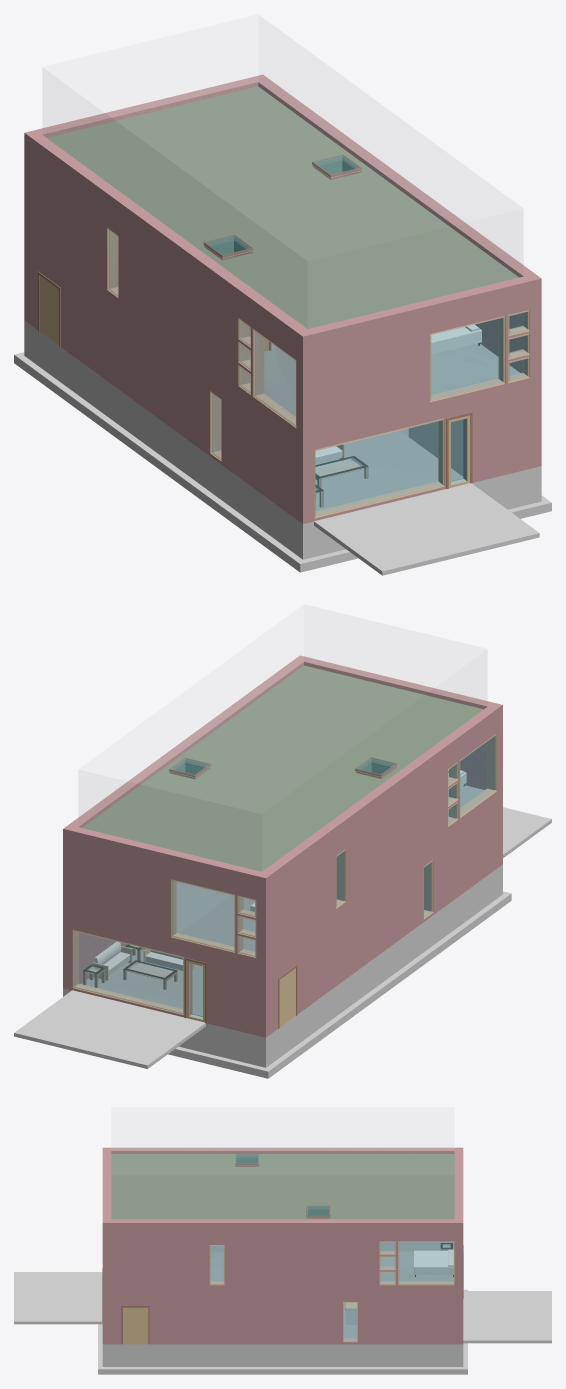
3 views of the same model, one above another, from view 1: azimuth 30°, elevation 25°; view 2: azimuth 150°, elevation 25°; view 3: azimuth 270°, elevation 25° (orthographic). The views are drawn at different scales.
Parts seen in each view (by area): view 1: 0jf0rYHfX3RAB3bSQRjmxl, 0pNy6pOyf7JPmXRLgxs3sW, 2O2Fr$t4X7Zf8NOew3FNhv, 2O2Fr$t4X7Zf8NOew3FLPP, 2O2Fr$t4X7Zf8NOew3FLOH, 1CZILmCaHETO8tf3SgGEXu, 2O2Fr$t4X7Zf8NOew3FNr2, 2O2Fr$t4X7Zf8NOew3FKE5, 1hOSvn6df7F8_7GcBWlRBU, 0jf0rYHfX3RAB3bSIRjmr1, 2OBrcmyk58NupXoVOHUtxr, 0jf0rYHfX3RAB3bSIRjmoa (+20 smaller); view 2: 0jf0rYHfX3RAB3bSQRjmxl, 0pNy6pOyf7JPmXRLgxs3sW, 2O2Fr$t4X7Zf8NOew3FNhv, 2O2Fr$t4X7Zf8NOew3FLPP, 2O2Fr$t4X7Zf8NOew3FLQD, 2O2Fr$t4X7Zf8NOew3FNtn, 1CZILmCaHETO8tf3SgGEWh, 2O2Fr$t4X7Zf8NOew3FKE5, 1hOSvn6df7F8_7GcBWlR72, 0jf0rYHfX3RAB3bSIRjmr1, 0jf0rYHfX3RAB3bSIRjmmy, 1hOSvn6df7F8_7GcBWlSXO (+20 smaller); view 3: 0jf0rYHfX3RAB3bSQRjmxl, 2O2Fr$t4X7Zf8NOew3FNqI, 2O2Fr$t4X7Zf8NOew3FLR9, 0pNy6pOyf7JPmXRLgxs3sW, 2O2Fr$t4X7Zf8NOew3FK9N, 0jf0rYHfX3RAB3bSIRjmpw, 1CZILmCaHETO8tf3SgGEWh, 1CZILmCaHETO8tf3SgGEXu, 0kF45Qs8L9PAM9kmb1lT5d, 3m7umSvpP6COxJHW1GIfh2, 0jf0rYHfX3RAB3bSIRjmr1, 1hOSvn6df7F8_7GcBWlRGQ (+10 smaller).
Part boxes in pixels (x1,y1,x2,y2): 0jf0rYHfX3RAB3bSQRjmxl: (47, 86, 518, 328); 0pNy6pOyf7JPmXRLgxs3sW: (43, 15, 522, 276); 2O2Fr$t4X7Zf8NOew3FNhv: (31, 237, 296, 518); 2O2Fr$t4X7Zf8NOew3FLPP: (24, 150, 302, 435); 2O2Fr$t4X7Zf8NOew3FLOH: (303, 296, 541, 436); 1CZILmCaHETO8tf3SgGEXu: (314, 483, 539, 575); 2O2Fr$t4X7Zf8NOew3FNr2: (296, 381, 530, 524); 2O2Fr$t4X7Zf8NOew3FKE5: (31, 325, 296, 554); 1hOSvn6df7F8_7GcBWlRBU: (314, 418, 445, 518); 0jf0rYHfX3RAB3bSIRjmr1: (31, 135, 307, 348); 2OBrcmyk58NupXoVOHUtxr: (315, 428, 463, 511); 0jf0rYHfX3RAB3bSIRjmoa: (296, 276, 530, 353); 0jf0rYHfX3RAB3bSQRjmxl: (82, 665, 483, 871); 0pNy6pOyf7JPmXRLgxs3sW: (79, 605, 486, 826); 2O2Fr$t4X7Zf8NOew3FNhv: (271, 794, 497, 1032); 2O2Fr$t4X7Zf8NOew3FLPP: (266, 720, 502, 962); 2O2Fr$t4X7Zf8NOew3FLQD: (63, 843, 265, 962); 2O2Fr$t4X7Zf8NOew3FNtn: (63, 913, 271, 1037); 1CZILmCaHETO8tf3SgGEWh: (14, 990, 205, 1068); 2O2Fr$t4X7Zf8NOew3FKE5: (271, 869, 497, 1063); 1hOSvn6df7F8_7GcBWlR72: (72, 930, 184, 1014); 0jf0rYHfX3RAB3bSIRjmr1: (262, 706, 497, 888); 0jf0rYHfX3RAB3bSIRjmmy: (63, 825, 271, 892); 1hOSvn6df7F8_7GcBWlSXO: (171, 879, 235, 952); 0jf0rYHfX3RAB3bSQRjmxl: (111, 1154, 454, 1219); 2O2Fr$t4X7Zf8NOew3FNqI: (102, 1287, 454, 1344); 2O2Fr$t4X7Zf8NOew3FLR9: (102, 1234, 463, 1287); 0pNy6pOyf7JPmXRLgxs3sW: (112, 1108, 453, 1153); 2O2Fr$t4X7Zf8NOew3FK9N: (102, 1344, 454, 1366); 0jf0rYHfX3RAB3bSIRjmpw: (102, 1219, 454, 1233); 1CZILmCaHETO8tf3SgGEWh: (463, 1291, 551, 1343); 1CZILmCaHETO8tf3SgGEXu: (14, 1272, 102, 1324); 0kF45Qs8L9PAM9kmb1lT5d: (98, 1361, 467, 1374); 3m7umSvpP6COxJHW1GIfh2: (398, 1241, 454, 1285); 0jf0rYHfX3RAB3bSIRjmr1: (111, 1147, 454, 1153); 1hOSvn6df7F8_7GcBWlRGQ: (121, 1306, 149, 1344).
Bounding box in the file's own units: 9.28 × 10.55 × 26.57.
